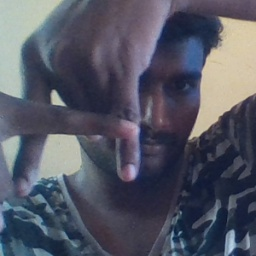H: (8, 60, 147, 195)
